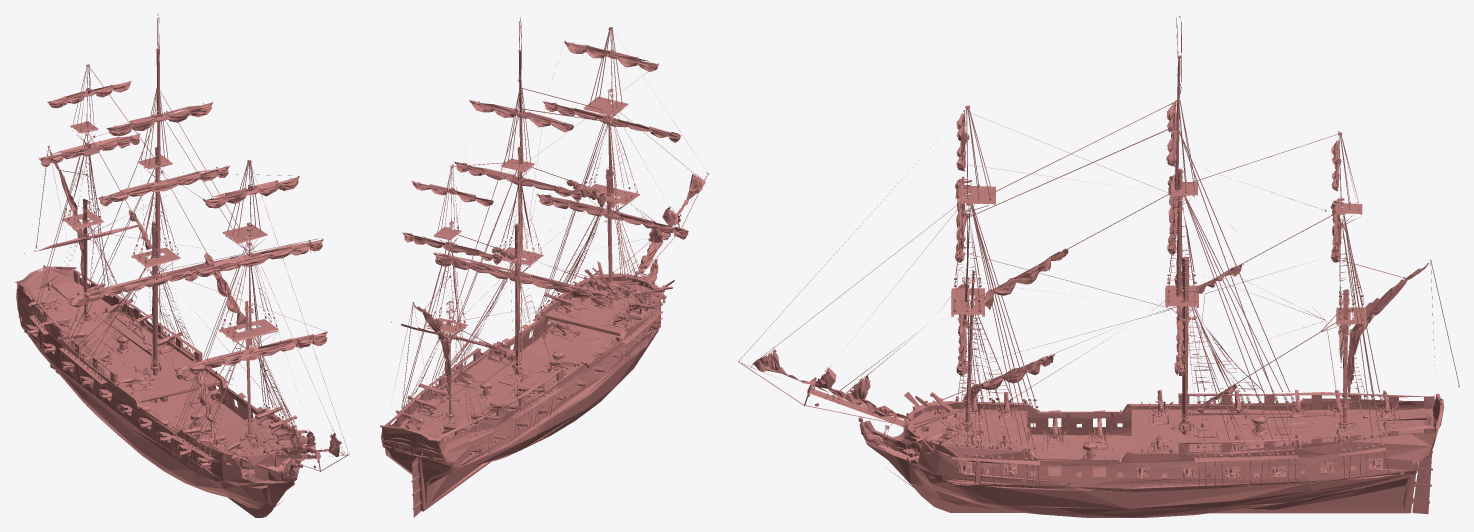
The model's file is aleksandr_optimized_light_v2.glb.
The picture shows the model from 3 angles, left to right: view 1: azimuth 30°, elevation 25°; view 2: azimuth 150°, elevation 25°; view 3: azimuth 270°, elevation 25°; orthographic projection. The views are drawn at different scales.
Parts seen in each view (by area): view 1: Object_27, Object_33, Object_21, Object_38, Object_22, Object_39, Object_24, Object_8, Object_23, Object_19, Object_11, Object_25 (+3 smaller); view 2: Object_27, Object_21, Object_33, Object_38, Object_22, Object_39, Object_24, Object_8, Object_19, Object_23, Object_11, Object_25 (+4 smaller); view 3: Object_27, Object_38, Object_21, Object_24, Object_22, Object_33, Object_25, Object_39, Object_23, Object_19, Object_8, Object_11 (+3 smaller).
Part boxes in pixels (x1,y1,x2,y2): Object_27: [32, 14, 349, 509]; Object_33: [38, 81, 341, 456]; Object_21: [25, 17, 297, 477]; Object_38: [17, 267, 302, 501]; Object_22: [15, 122, 300, 505]; Object_39: [36, 49, 315, 458]; Object_24: [17, 298, 301, 483]; Object_8: [27, 283, 307, 467]; Object_23: [17, 277, 304, 472]; Object_19: [24, 81, 326, 479]; Object_11: [39, 301, 290, 453]; Object_25: [55, 370, 293, 517]; Object_27: [396, 17, 708, 434]; Object_21: [399, 22, 656, 459]; Object_33: [403, 41, 705, 394]; Object_38: [382, 276, 663, 517]; Object_22: [379, 96, 660, 506]; Object_39: [401, 44, 673, 469]; Object_24: [400, 281, 660, 468]; Object_8: [395, 269, 664, 452]; Object_19: [391, 41, 687, 509]; Object_23: [391, 274, 666, 453]; Object_11: [407, 280, 650, 456]; Object_25: [419, 264, 654, 511]; Object_27: [738, 16, 1459, 487]; Object_38: [907, 397, 1440, 513]; Object_21: [912, 35, 1433, 486]; Object_24: [905, 407, 1431, 487]; Object_22: [864, 181, 1444, 509]; Object_33: [753, 102, 1428, 421]; Object_25: [864, 421, 1414, 517]; Object_39: [809, 55, 1348, 434]; Object_23: [902, 398, 1435, 469]; Object_19: [804, 100, 1432, 503]; Object_8: [928, 390, 1389, 478]; Object_11: [935, 402, 1395, 477].
Bounding box in the file's own units: 18.21 × 42.09 × 55.1.
